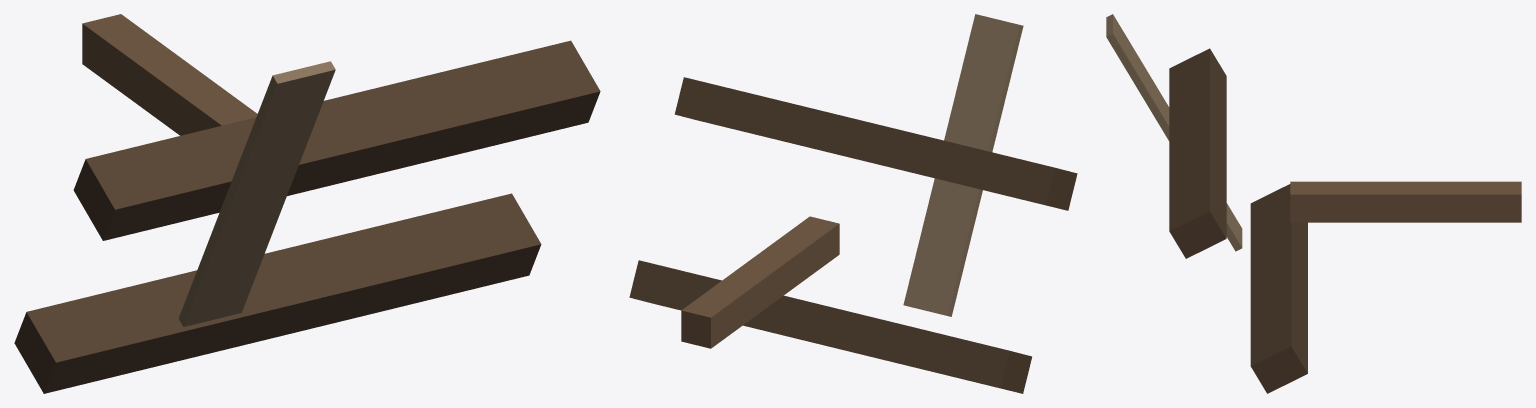
The model's file is prop_barricade_pallet_2.glb.
3 views of the same model, side by side, from view 1: azimuth 30°, elevation 25°; view 2: azimuth 150°, elevation 25°; view 3: azimuth 270°, elevation 25° (orthographic). The views are drawn at different scales.
Parts seen in each view (by area): view 1: prop_barricade_pallet_2; view 2: prop_barricade_pallet_2; view 3: prop_barricade_pallet_2.
Part boxes in pixels (left/top/right/bottom): prop_barricade_pallet_2: left=14, top=14, right=600, bottom=393; prop_barricade_pallet_2: left=629, top=14, right=1077, bottom=393; prop_barricade_pallet_2: left=1106, top=14, right=1521, bottom=393.
Size of the model in its own units: 1 by 0.7328 by 1.08.
